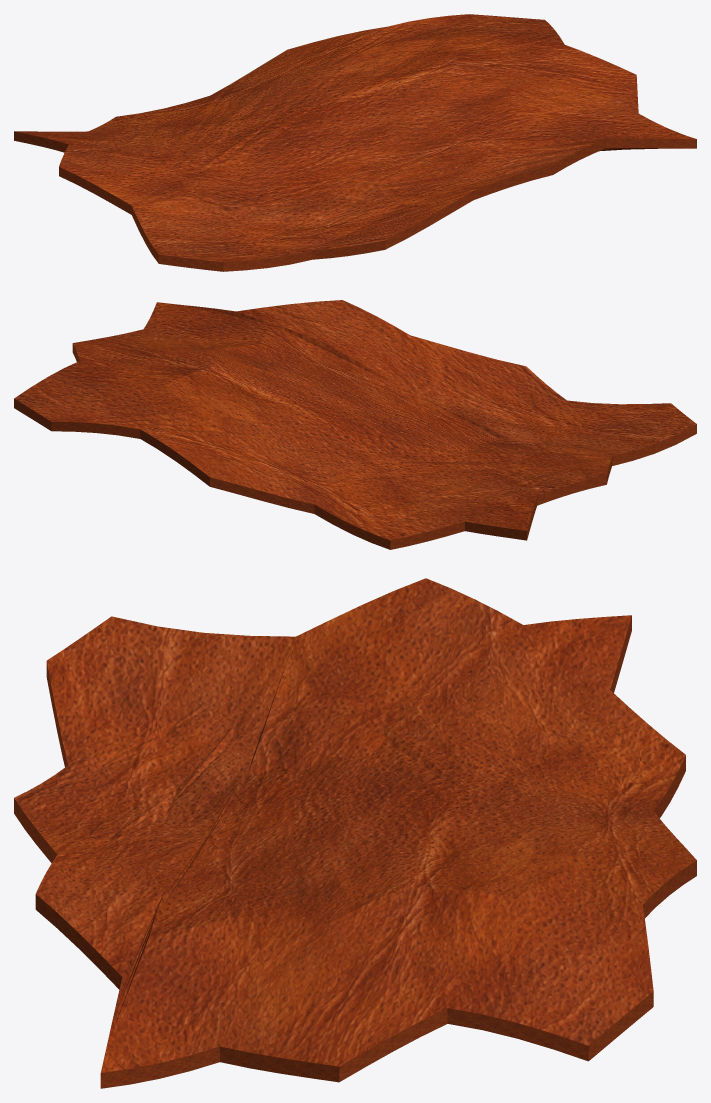
File: leather.obj
The picture shows the model from 3 angles, top to bottom: view 1: azimuth 30°, elevation 25°; view 2: azimuth 150°, elevation 25°; view 3: azimuth 270°, elevation 25°; orthographic projection. The views are drawn at different scales.
Visible parts, largest first — view 1: sheet; view 2: sheet; view 3: sheet.
Part boxes in pixels (bbox=[...]): sheet: bbox=[14, 14, 696, 271]; sheet: bbox=[14, 300, 696, 549]; sheet: bbox=[14, 578, 696, 1088].
Size of the model in its own units: 112 by 12.24 by 72.
1 material, 1 textured.
